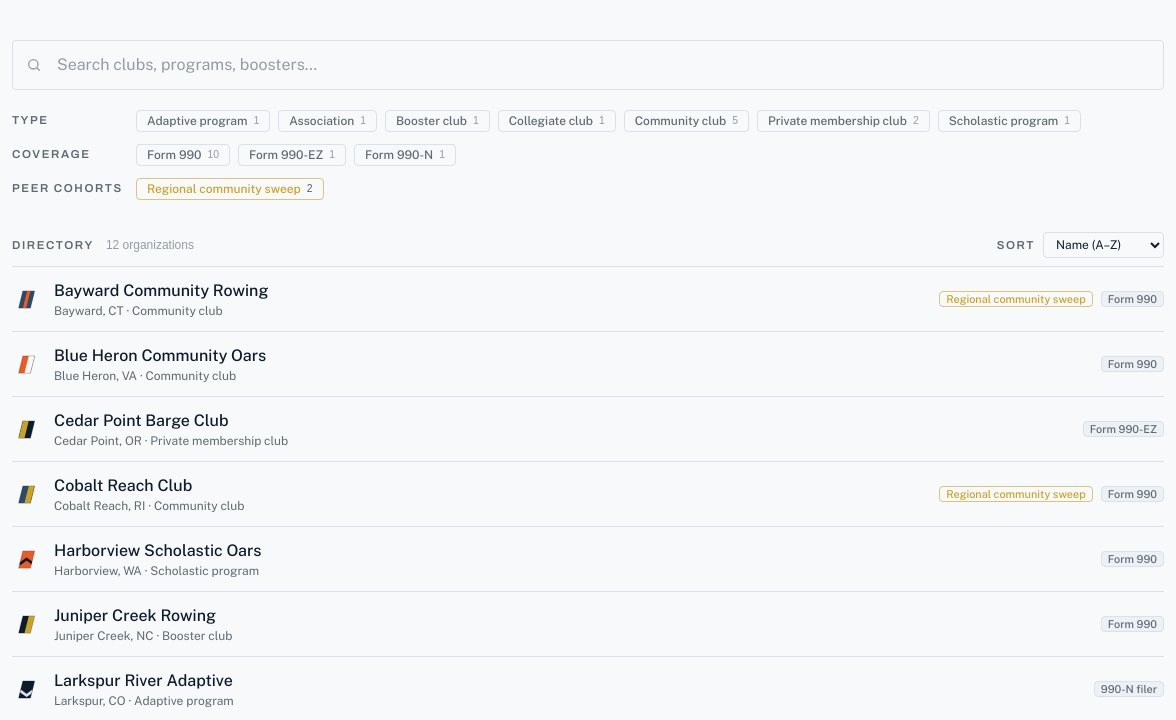
Test: DirectoryExplorer › combines a type filter and a peer-cohort filter as AND
Click the button "Community club 5".
click(686, 121)  # box [624,110,749,132]
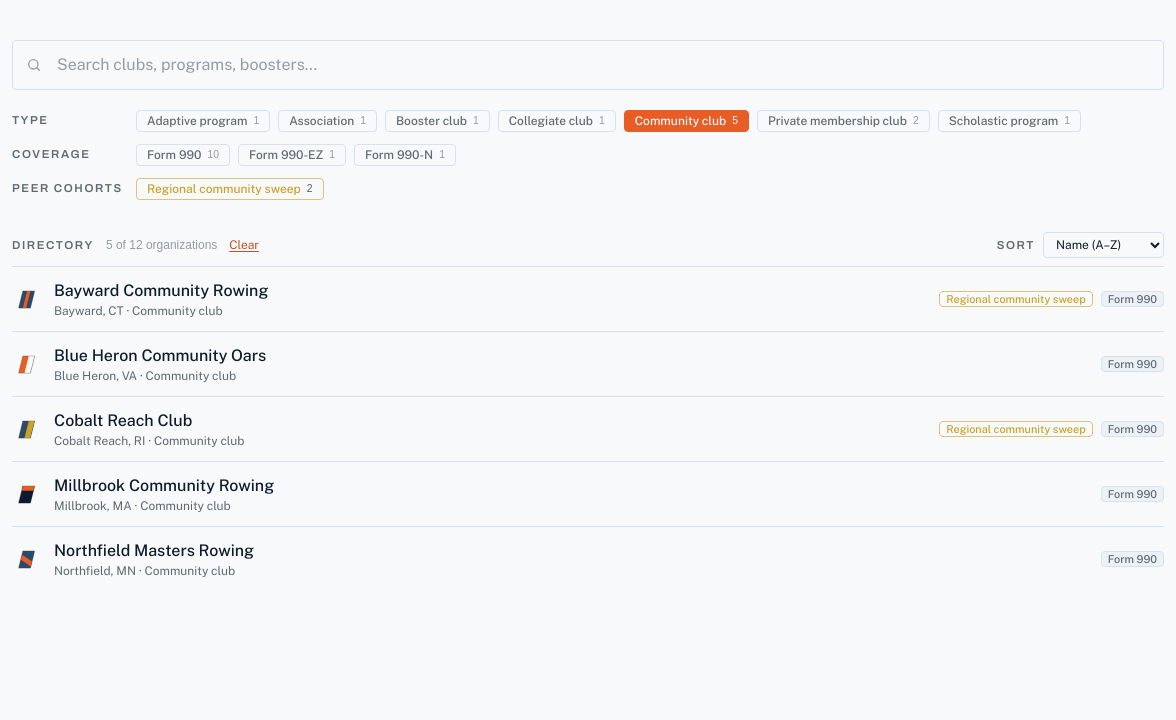
Click the button "Regional community sweep 2".
click(230, 189)  # box [136,178,324,200]
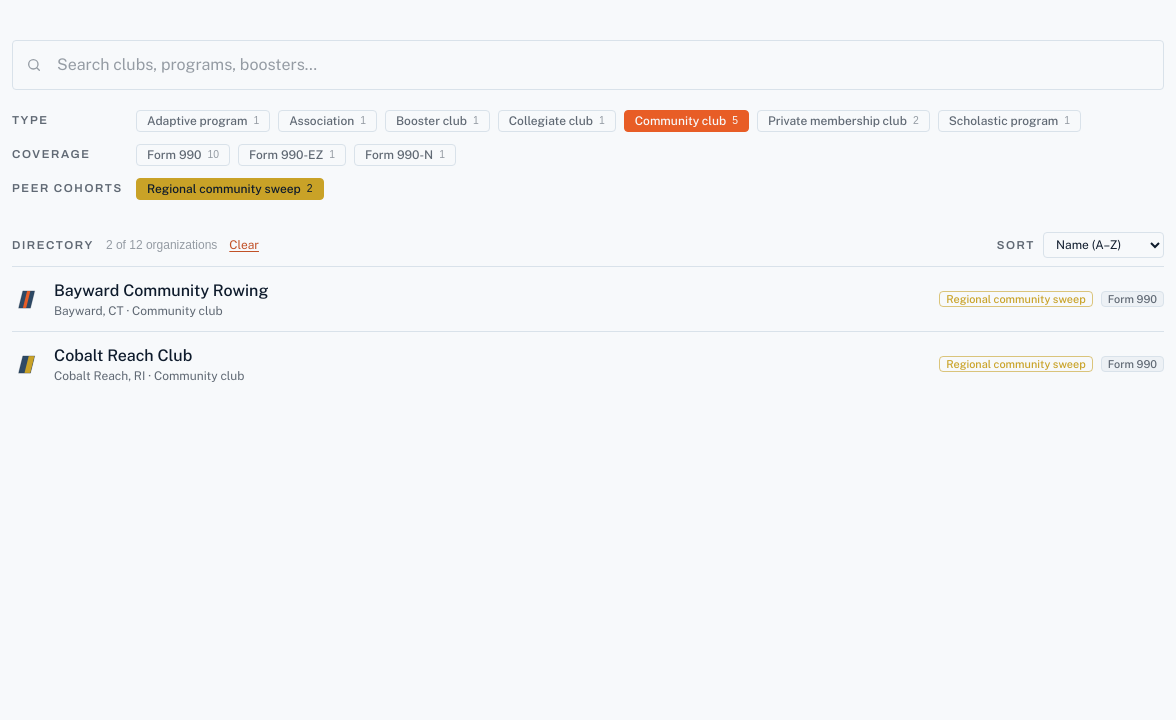
expect the text "Cobalt Reach Club" is shown: met, box [54,346,192,365]
expect the text "2 of 12 organizations" is shown: met, box [106,237,217,253]
expect the link "Millbrook Community Rowing" is gone: met
